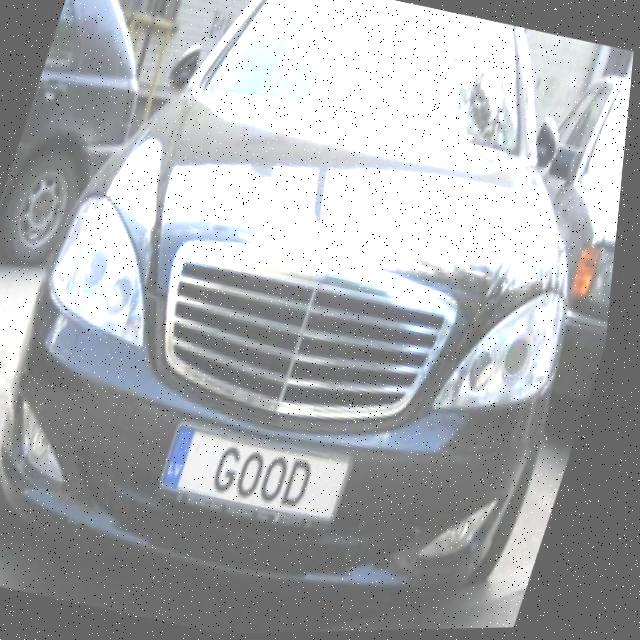license_plate: (154, 415, 370, 534)
